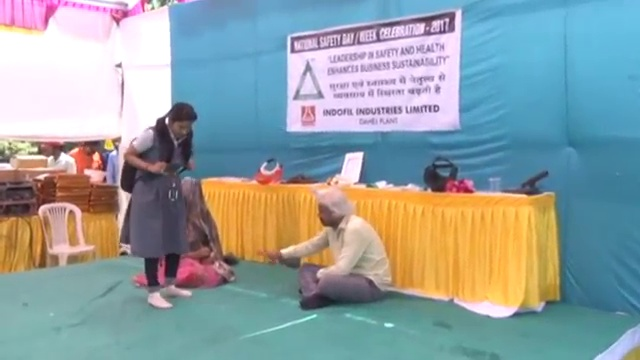helmet_off: (311, 187, 348, 229), (165, 102, 197, 141), (179, 175, 205, 210)
person: (121, 103, 198, 311), (292, 187, 393, 310), (173, 176, 233, 286), (42, 138, 78, 176), (70, 141, 103, 179), (103, 136, 122, 186)
